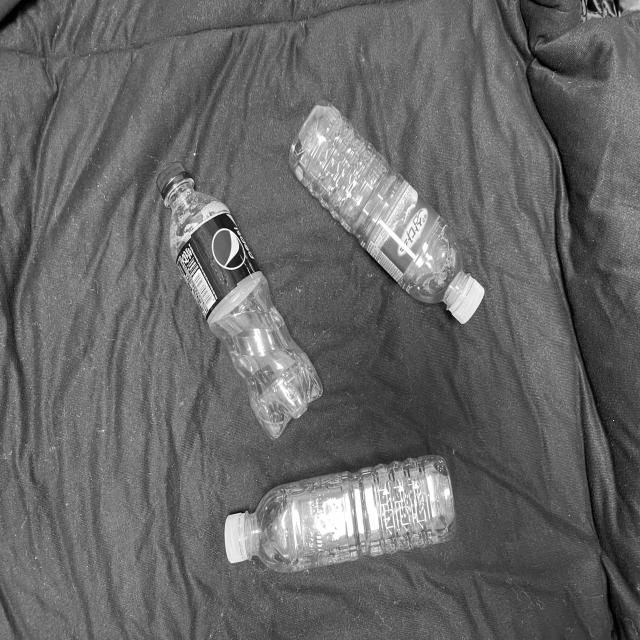plastic bottle: (132, 139, 338, 457), (272, 80, 502, 341), (213, 437, 470, 587)
